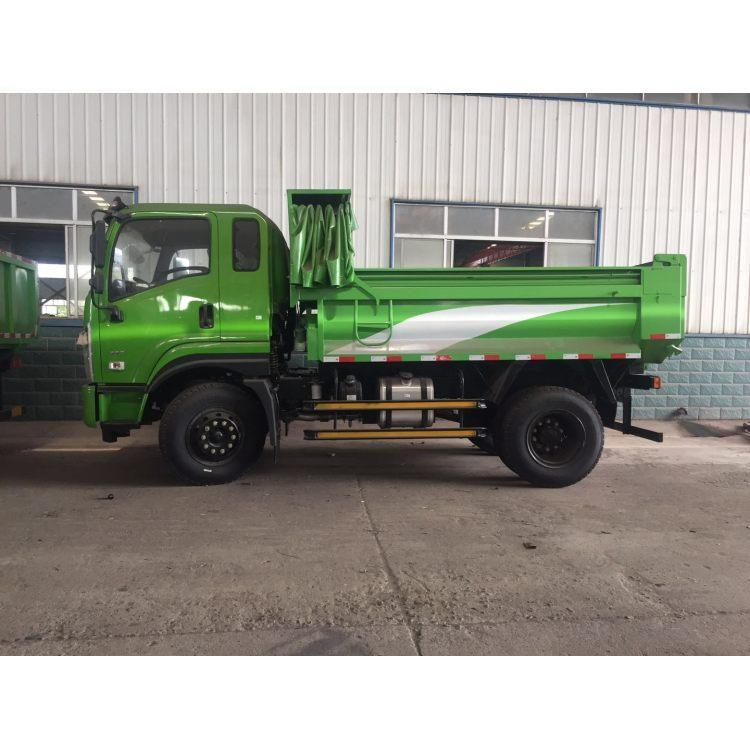truck: (75, 174, 693, 494)
